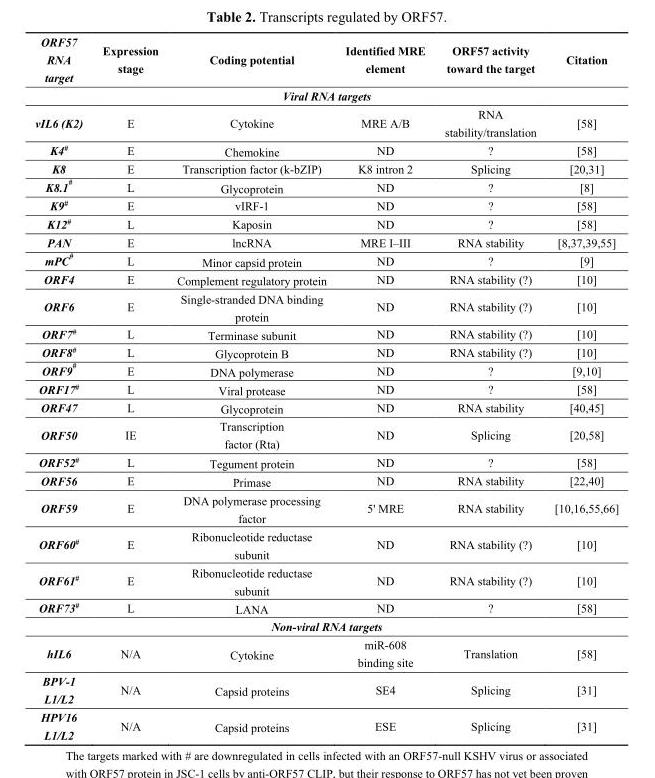table: (34, 34, 618, 741)
table column: (167, 34, 335, 741), (434, 34, 544, 741), (335, 34, 434, 741), (91, 34, 167, 741), (544, 34, 618, 741), (34, 34, 91, 741)
table column header: (34, 34, 618, 86)
table projected row header: (34, 86, 618, 104), (34, 617, 618, 635)
table row: (34, 34, 618, 86), (34, 490, 618, 527), (34, 104, 618, 140), (34, 527, 618, 563), (34, 635, 618, 671), (34, 671, 618, 707), (34, 289, 618, 324), (34, 417, 618, 452), (34, 563, 618, 598), (34, 707, 618, 741), (34, 175, 618, 196), (34, 249, 618, 270), (34, 360, 618, 380), (34, 140, 618, 159), (34, 270, 618, 289), (34, 324, 618, 343), (34, 398, 618, 417), (34, 452, 618, 471), (34, 471, 618, 490), (34, 598, 618, 617), (34, 86, 618, 104), (34, 196, 618, 214), (34, 214, 618, 232), (34, 380, 618, 398), (34, 617, 618, 635), (34, 232, 618, 249), (34, 343, 618, 360), (34, 159, 618, 175)
